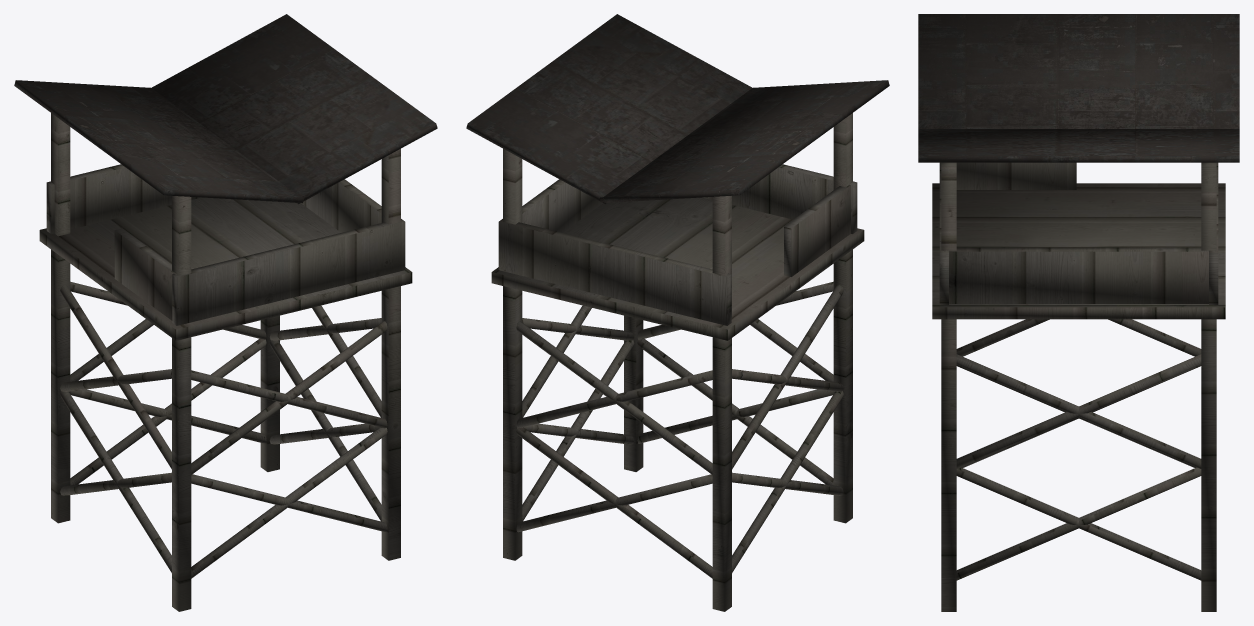
Rendered from watchtower_aaa.glb.
The picture shows the model from 3 angles, left to right: view 1: azimuth 30°, elevation 25°; view 2: azimuth 150°, elevation 25°; view 3: azimuth 270°, elevation 25°; orthographic projection. The views are drawn at different scales.
Visible parts, largest first — view 1: WatchtowerTimber, WatchtowerRoof; view 2: WatchtowerTimber, WatchtowerRoof; view 3: WatchtowerTimber, WatchtowerRoof.
Part boxes in pixels (left/top/right/bottom): WatchtowerTimber: left=39, top=113, right=412, bottom=611; WatchtowerRoof: left=14, top=14, right=437, bottom=204; WatchtowerTimber: left=491, top=113, right=864, bottom=611; WatchtowerRoof: left=466, top=14, right=889, bottom=204; WatchtowerTimber: left=932, top=162, right=1225, bottom=611; WatchtowerRoof: left=918, top=14, right=1239, bottom=162.
Bounding box in the file's own units: 7.19 × 10.94 × 6.8.
Materials: 2 (2 with a texture image).
